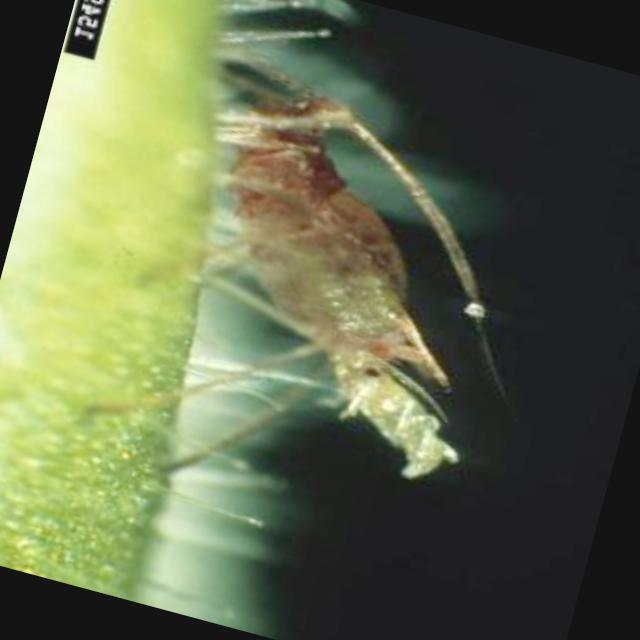Green peach aphid: (32, 0, 606, 619)
